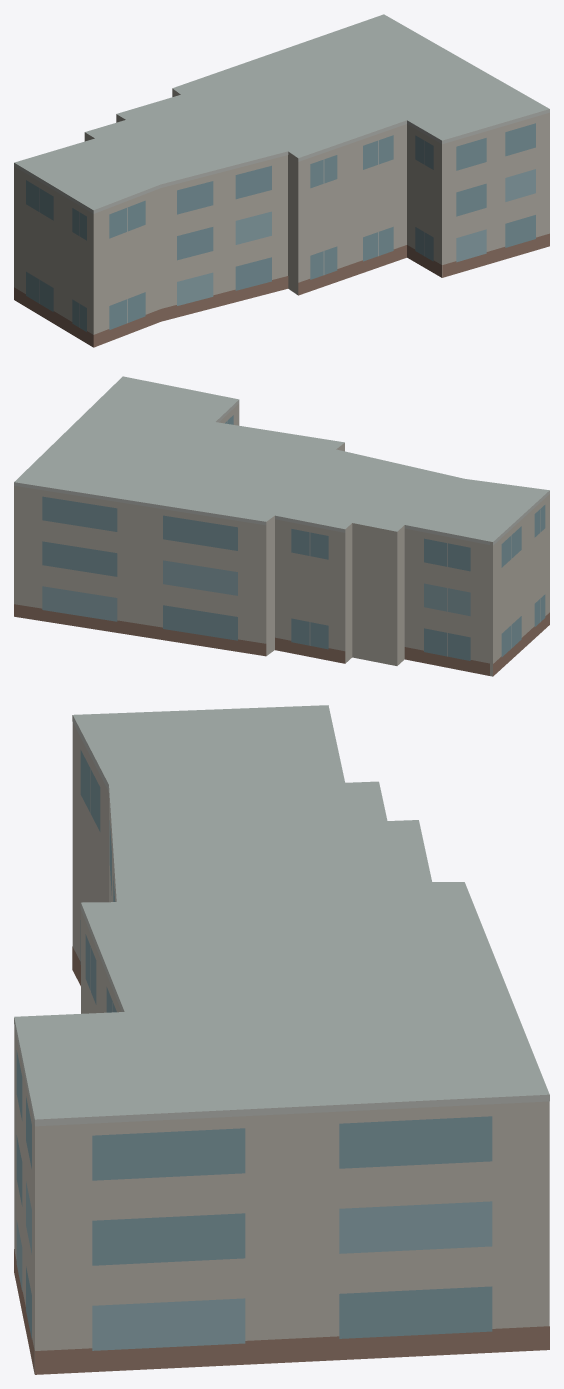
Rendered from survey-upis-32969999.glb.
3 views of the same model, one above another, from view 1: azimuth 30°, elevation 25°; view 2: azimuth 150°, elevation 25°; view 3: azimuth 270°, elevation 25° (orthographic). The views are drawn at different scales.
Parts seen in each view (by area): view 1: survey-upis-32969999.tmp; view 2: survey-upis-32969999.tmp; view 3: survey-upis-32969999.tmp.
Part boxes in pixels (x1,y1,x2,y2): survey-upis-32969999.tmp: (14,14,549,347); survey-upis-32969999.tmp: (14,376,549,676); survey-upis-32969999.tmp: (14,705,549,1374).
Size of the model in its own units: 31.87 by 9.15 by 17.41.
